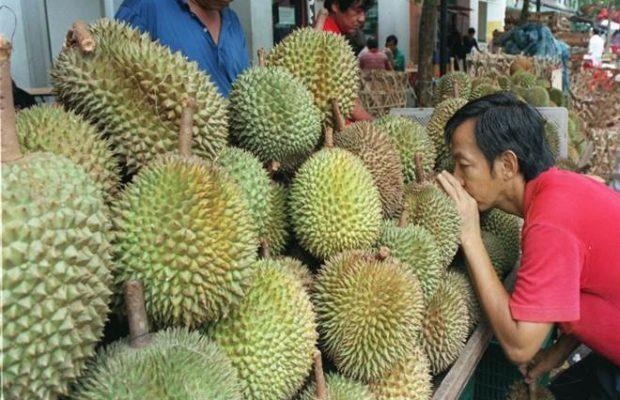sau_rieng: (111, 151, 258, 330), (312, 250, 426, 385), (288, 146, 382, 262), (231, 63, 322, 163)
